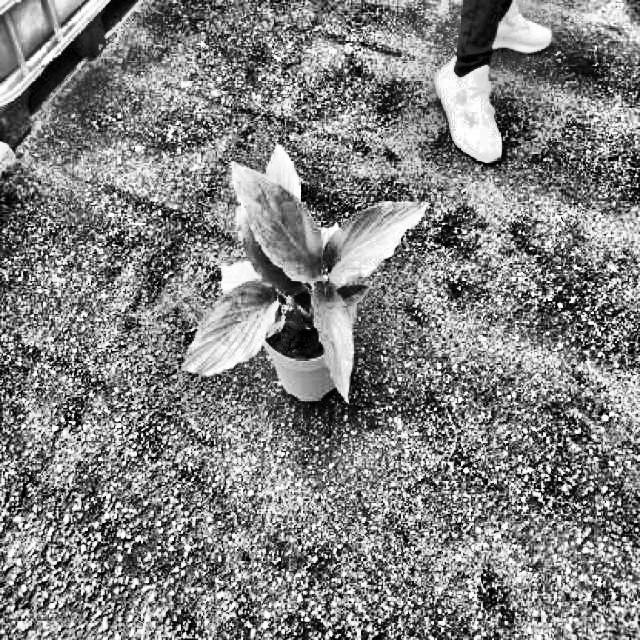plants: (183, 146, 426, 402)
